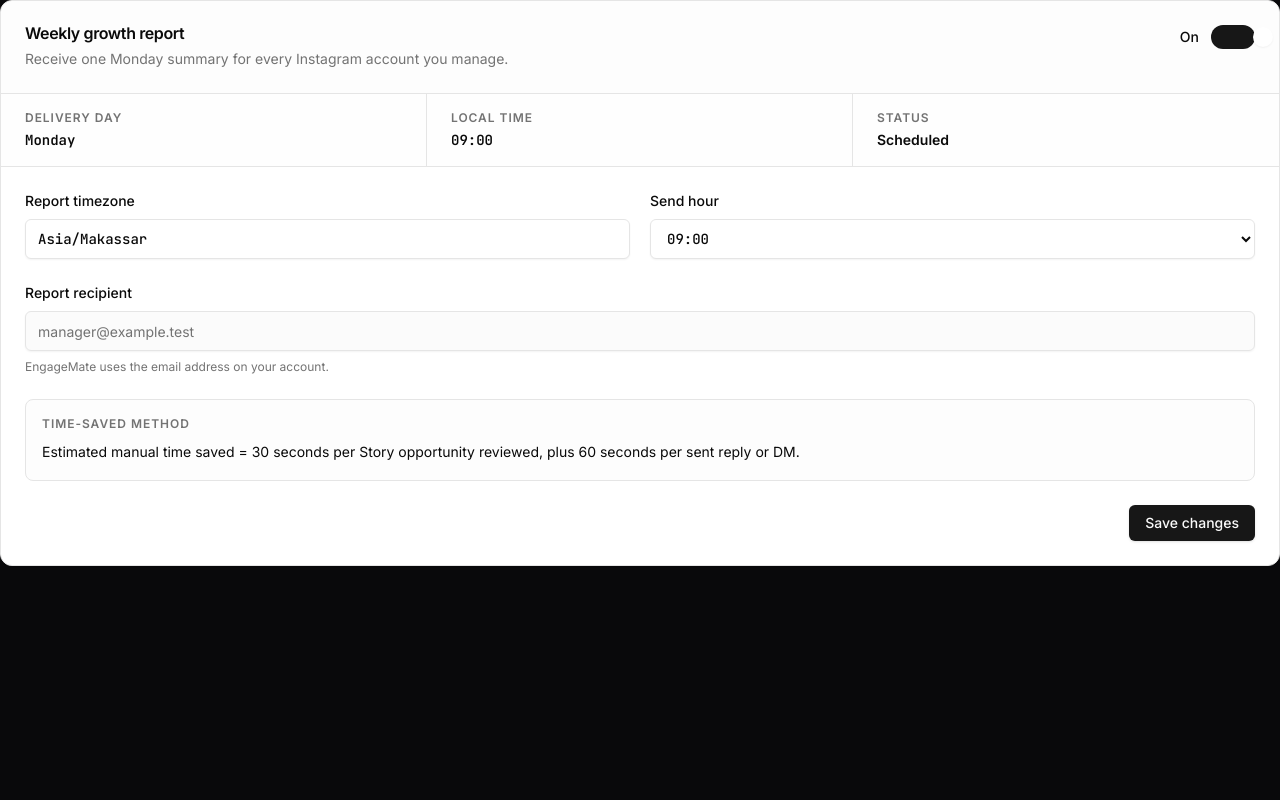
WeeklyReportSettings › shows stable retry guidance for auth and server failures (401)
Click the button "Save changes". click: (1192, 523)
box: [1129,505,1255,541]
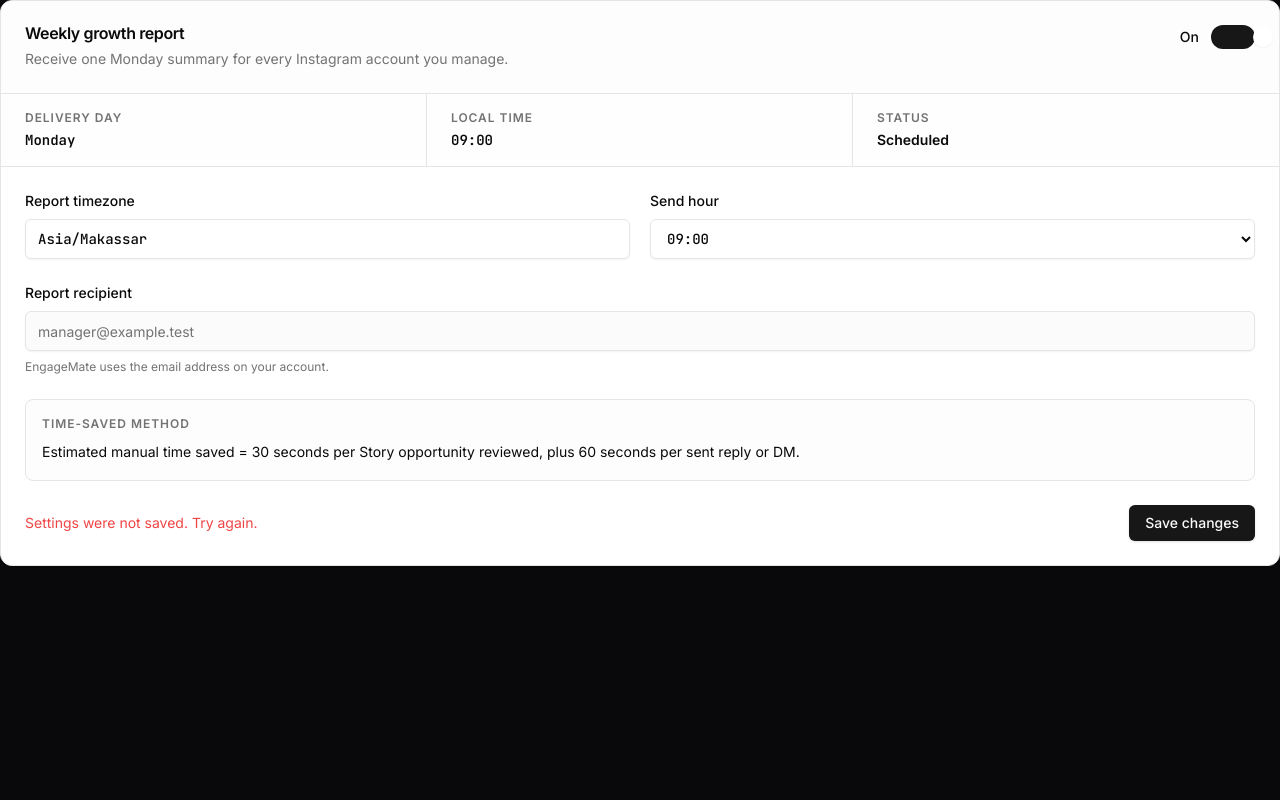
Expected: the message does not show "Check the timezone", [25,513,258,533]
Now the message reads "Settings were not saved. Try again.", box [25,514,258,531]
